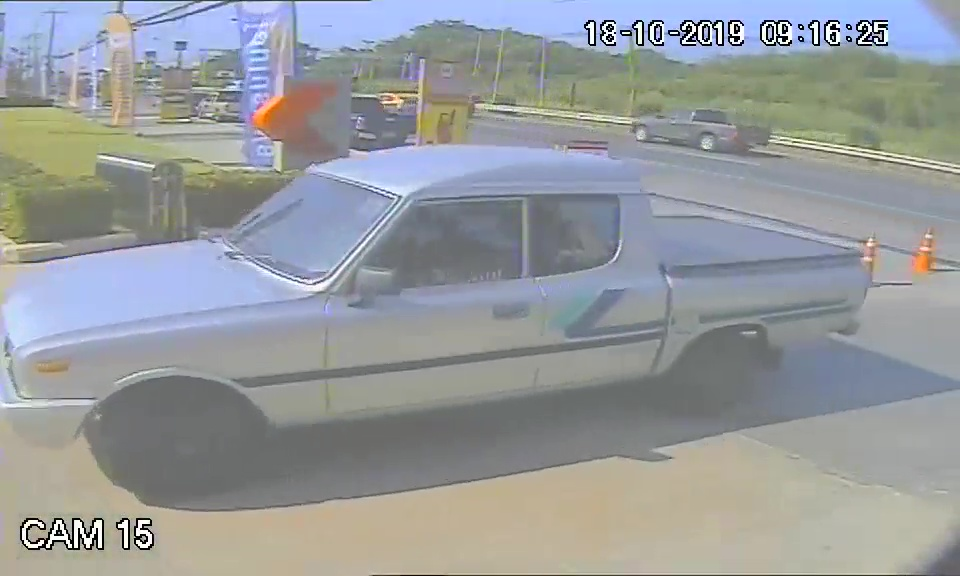pickup: (8, 144, 870, 501)
